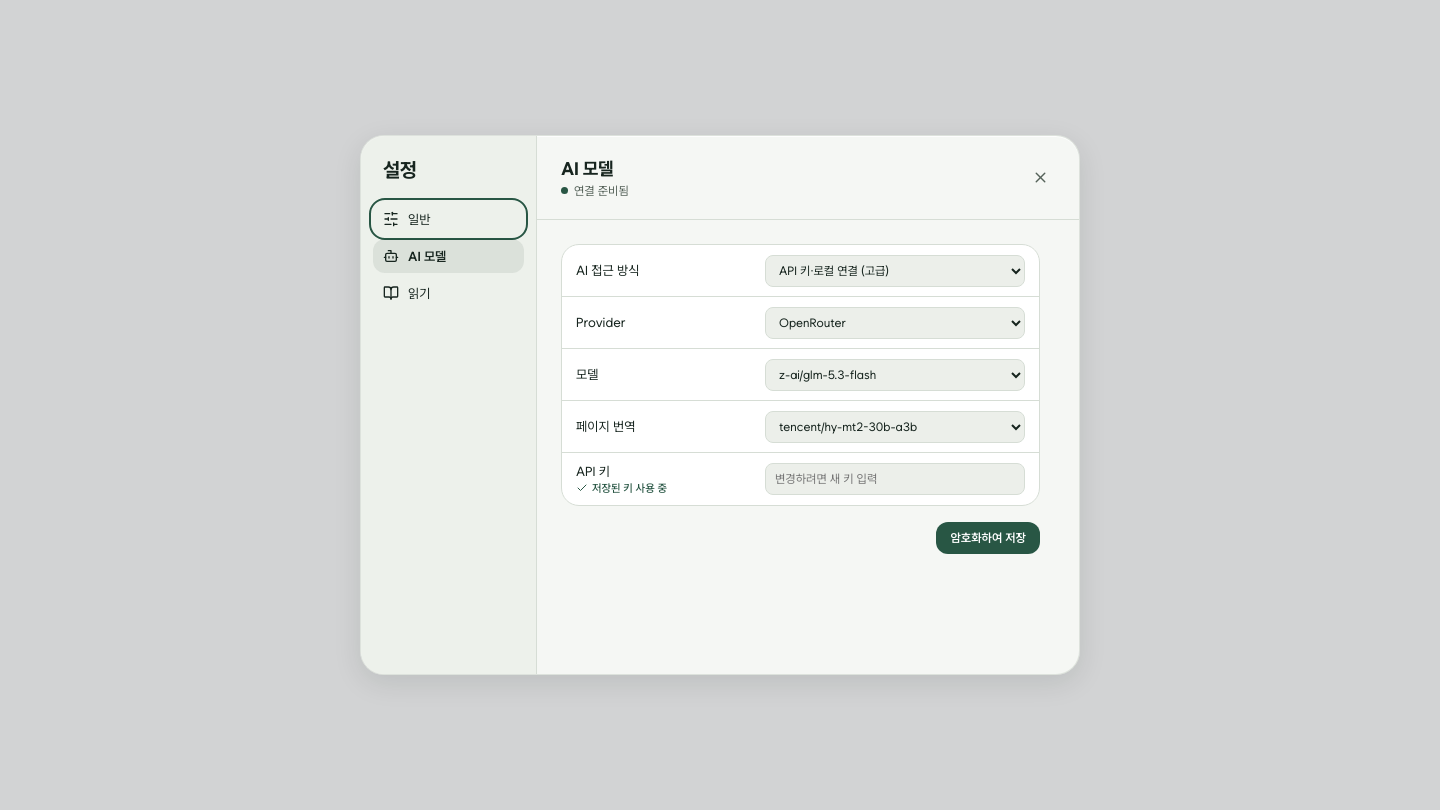
Test: SettingsModal › marks a stored API key with a check only for the configured provider
Expected: the text "저장된 키 사용 중" is shown, [576,480,667,494]
Select "Gemini API" in the dropdown labelled "Provider" at (895, 322), box [765,306,1025,338]
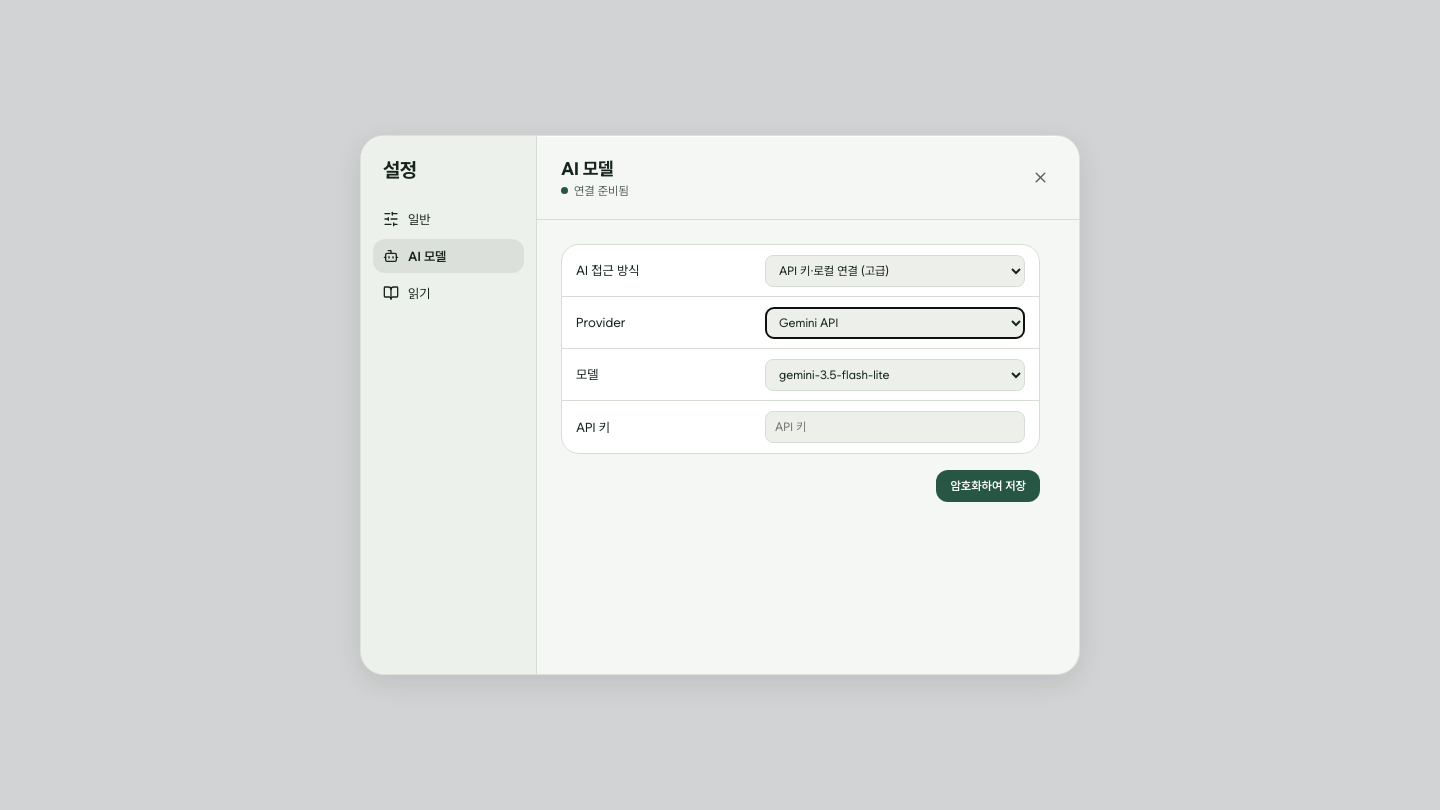
Result: the text "저장된 키 사용 중" is gone
